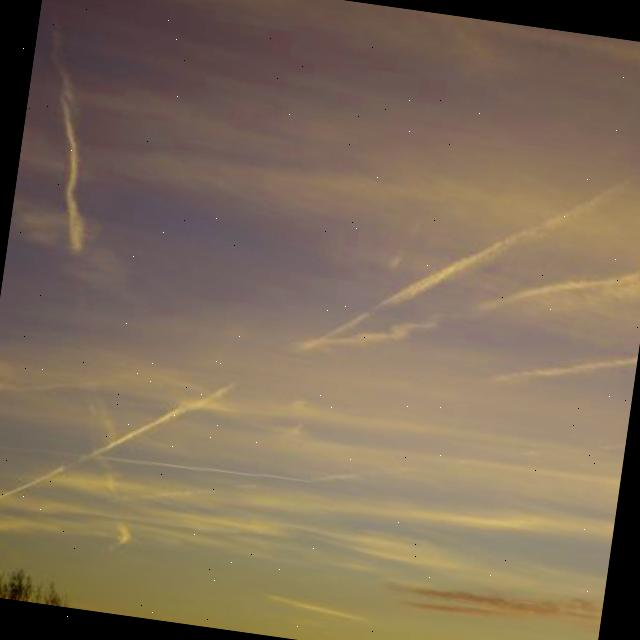Ct: (1, 1, 640, 574)
